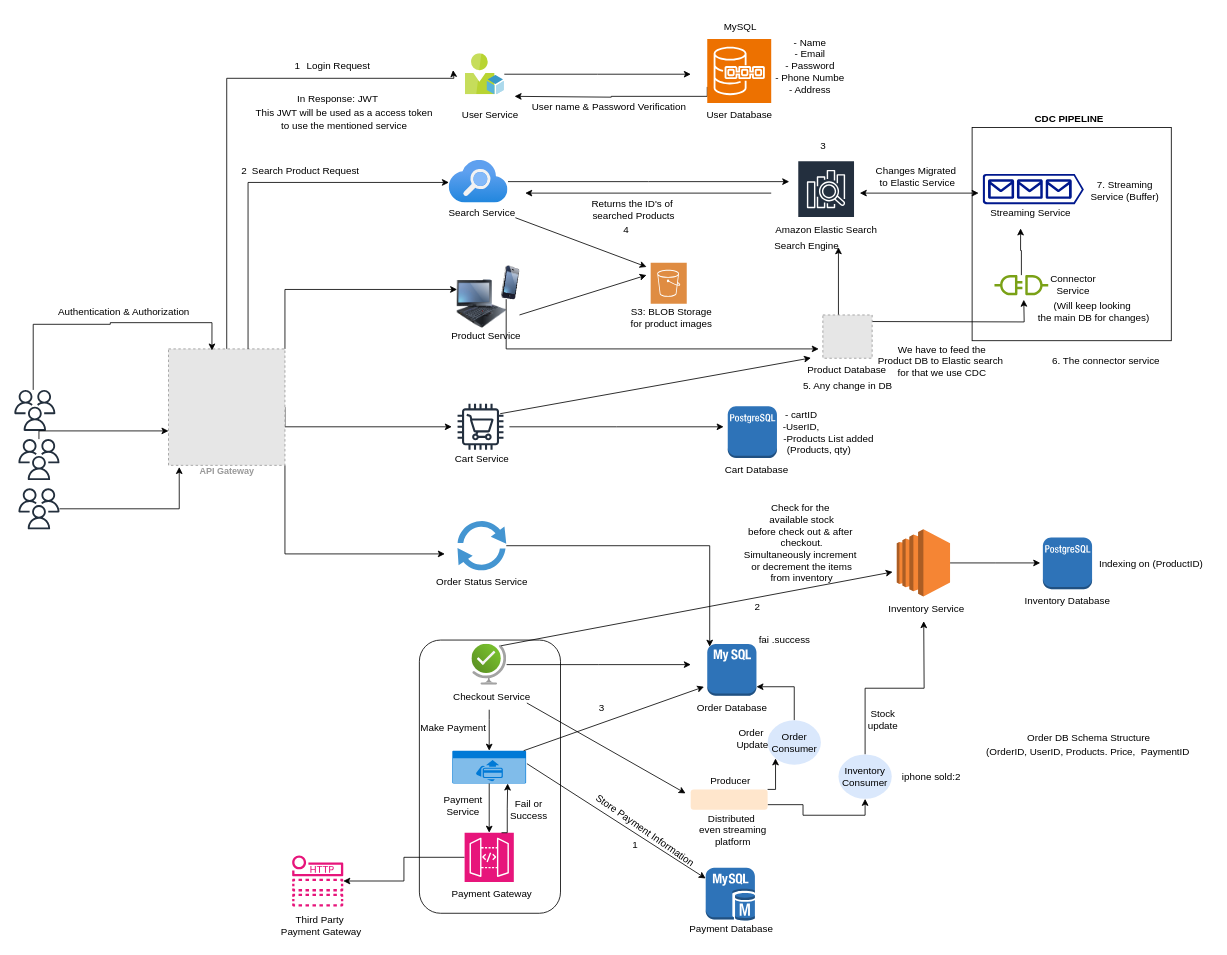
The diagram is 1227 pixels wide and 955 high, and some of its shapes have lost their labels. Grey dashed boxes stand in for pictures. The shapes that lost their labels are listed below. From the top down, each one's box as (x1, y1, x2, y2) in pixels, then its label:
(452, 750, 526, 783): Payment
(690, 789, 767, 809): KAFKA
